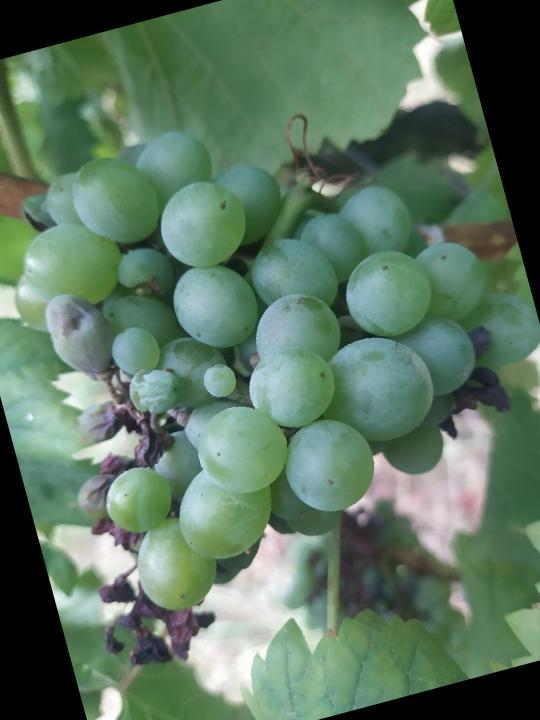grape: (0, 50, 540, 685)
